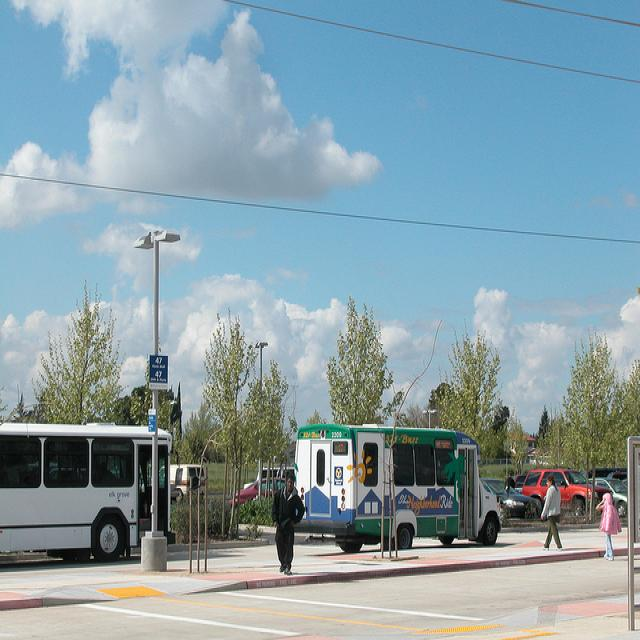Vehicle: (295, 424, 501, 551), (3, 421, 178, 564), (521, 468, 614, 518), (481, 477, 543, 518), (230, 474, 286, 512), (589, 476, 629, 519), (478, 478, 502, 546), (170, 463, 207, 502), (244, 464, 294, 488), (606, 472, 628, 484)
